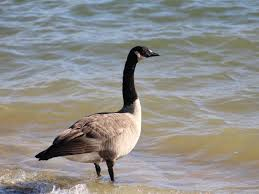goose: (31, 44, 164, 184)
